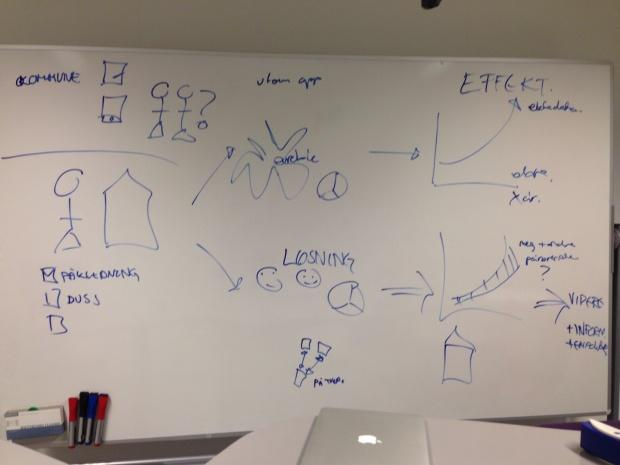Whiteboard: (0, 42, 615, 445)
